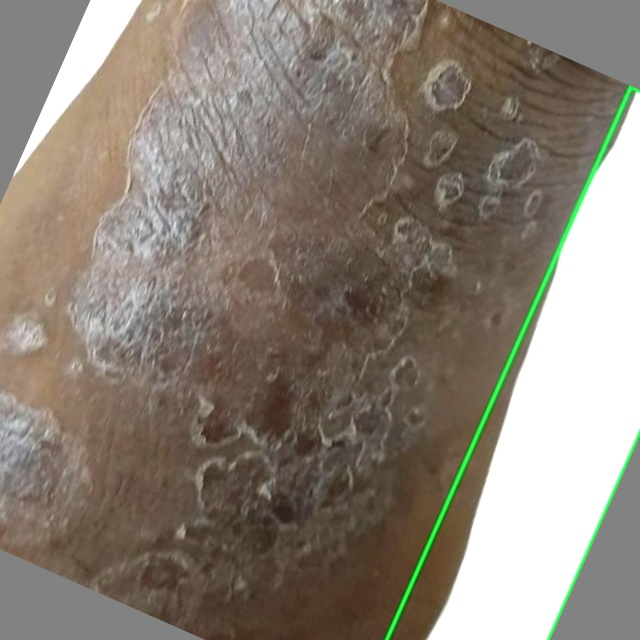Contact Dermatitis: (386, 86, 639, 639)
